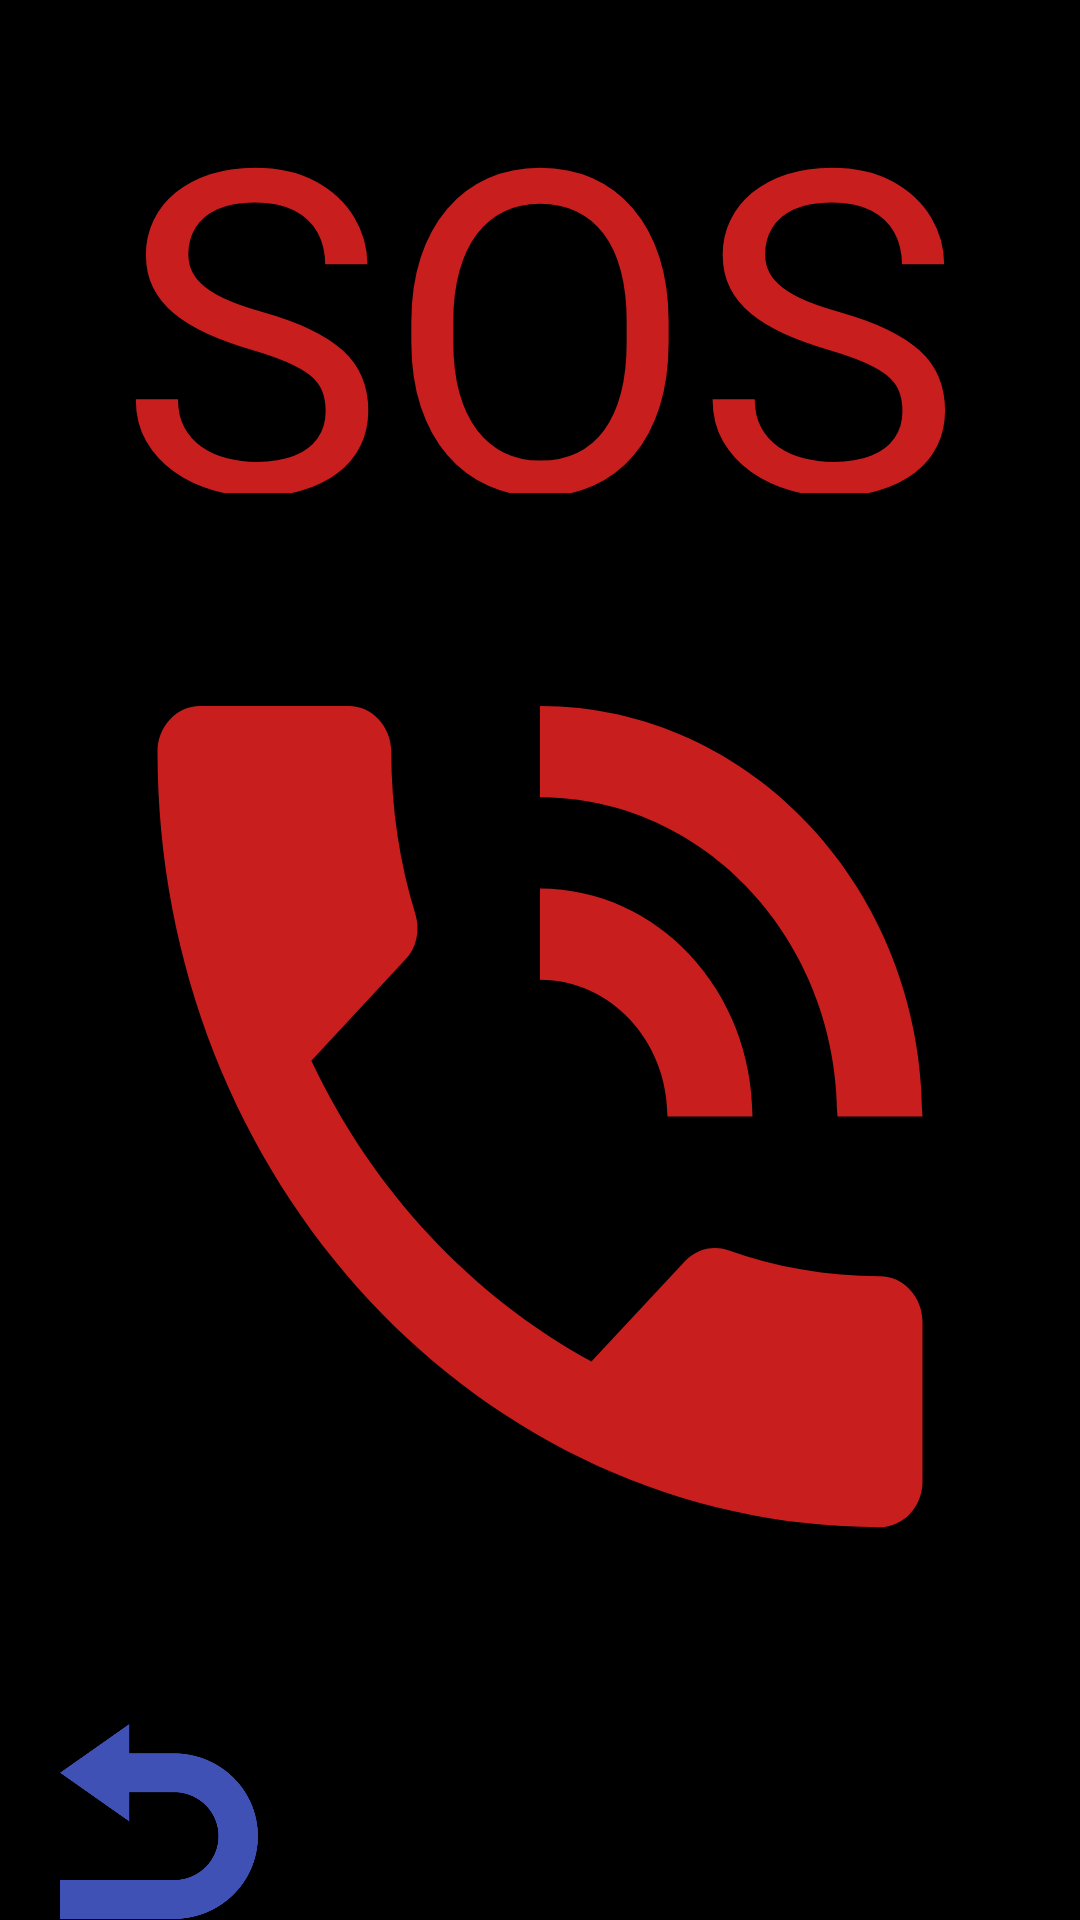

Where icons sit on this 1080×1920 app screen, as [left=x1, top=y1, right=x2, bottom=y2]:
boton para volver al MainActivity: [left=60, top=1724, right=258, bottom=1919]
